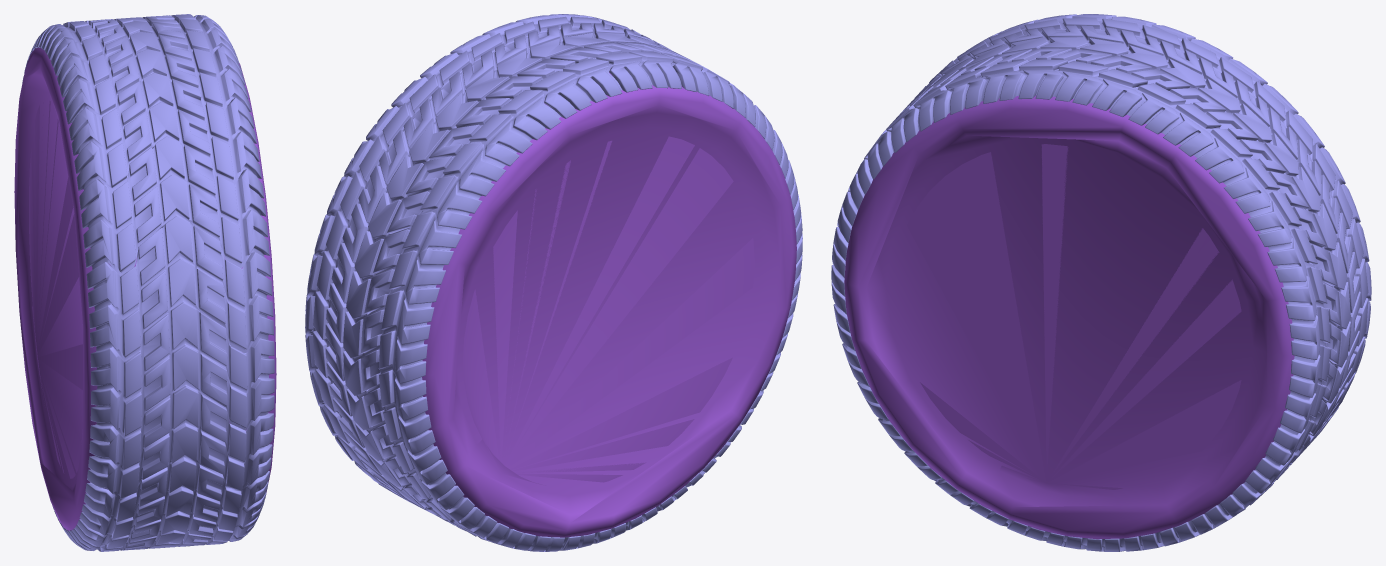
Rendered from spider.fbx.
The picture shows the model from 3 angles, left to right: view 1: azimuth 30°, elevation 25°; view 2: azimuth 150°, elevation 25°; view 3: azimuth 270°, elevation 25°; orthographic projection.
Parts seen in each view (by area): view 1: Plane005; view 2: Plane005; view 3: Plane005.
Part boxes in pixels (x1,y1,x2,y2): Plane005: (14,14,276,551); Plane005: (305,14,802,551); Plane005: (831,14,1371,551).
Size of the model in its own units: 79 by 120 by 124.
